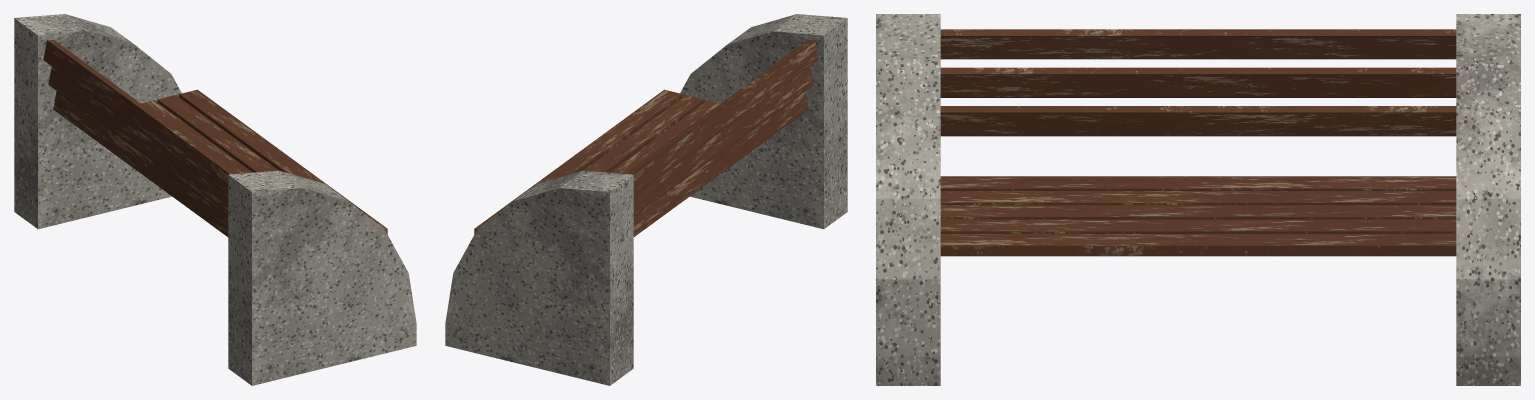
Rendered from bench_concrete_lod1_web.glb.
The picture shows the model from 3 angles, left to right: view 1: azimuth 30°, elevation 25°; view 2: azimuth 150°, elevation 25°; view 3: azimuth 270°, elevation 25°; orthographic projection. The views are drawn at different scales.
Parts seen in each view (by area): view 1: BenchConcrete_Mesh; view 2: BenchConcrete_Mesh; view 3: BenchConcrete_Mesh.
Boxes of the visible parts, x1,y1,x2,y2 form: BenchConcrete_Mesh: [14, 14, 416, 385]; BenchConcrete_Mesh: [445, 14, 847, 385]; BenchConcrete_Mesh: [876, 14, 1520, 385].
Size of the model in its own units: 0.8 by 0.9 by 2.
2 materials, 2 textured.
